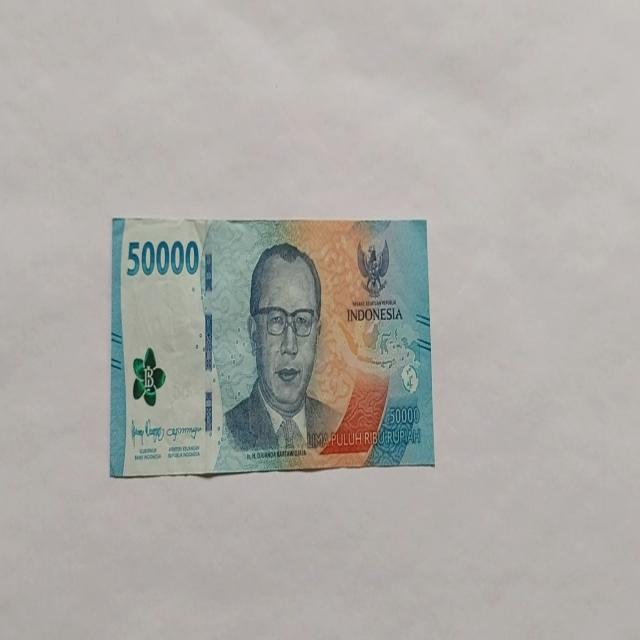lima puluh ribu rupiah: (110, 215, 434, 478), (218, 241, 346, 458)
